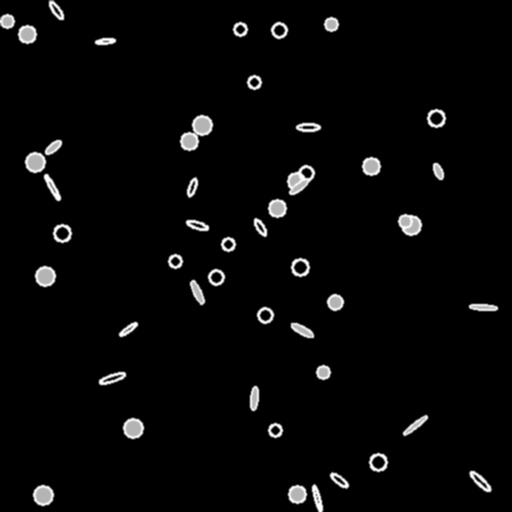pseudomonas: (468, 469, 492, 493), (403, 414, 427, 436), (43, 174, 61, 200), (289, 321, 315, 339), (288, 176, 310, 196), (189, 280, 205, 304), (99, 371, 125, 385), (329, 471, 349, 489), (252, 217, 268, 237), (48, 0, 64, 20), (118, 321, 138, 337), (311, 485, 323, 511), (44, 139, 62, 155), (186, 219, 208, 231), (186, 177, 198, 197), (432, 162, 444, 180), (250, 386, 258, 410), (469, 304, 497, 310), (296, 124, 319, 130), (95, 38, 115, 44)
synechocystis: (402, 216, 420, 234), (124, 419, 142, 437), (36, 267, 54, 285), (193, 116, 211, 134), (34, 486, 52, 504), (26, 153, 44, 171), (288, 173, 304, 189), (289, 486, 305, 502), (363, 158, 379, 174), (269, 200, 285, 216), (19, 26, 35, 42), (181, 133, 197, 149), (292, 259, 308, 275), (54, 225, 70, 241), (370, 454, 386, 470), (428, 110, 444, 126), (258, 308, 272, 322), (328, 295, 342, 309), (299, 166, 313, 180), (272, 23, 286, 37), (209, 270, 223, 284), (269, 424, 281, 436), (317, 366, 329, 378), (234, 23, 246, 35), (222, 238, 234, 250), (169, 255, 181, 267), (399, 215, 411, 227), (1, 15, 13, 27), (325, 18, 337, 30), (248, 76, 260, 88)
